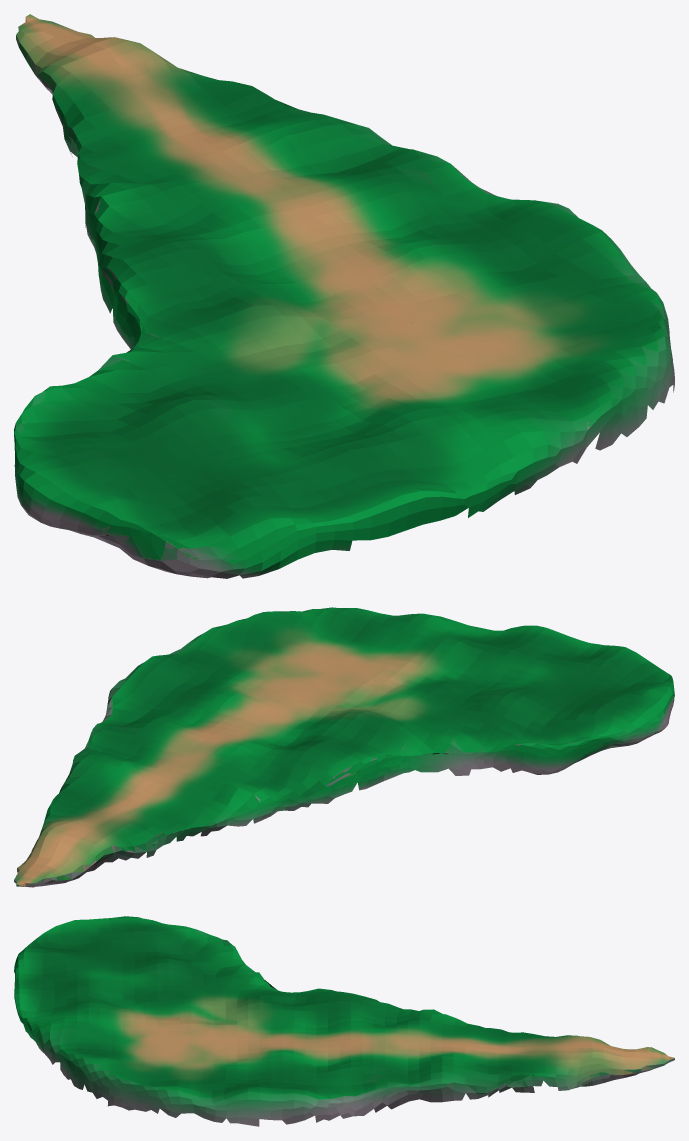
The model's file is Map1_Island1_Collision.fbx.
3 renders of one model, top to bottom at view 1: azimuth 30°, elevation 25°; view 2: azimuth 150°, elevation 25°; view 3: azimuth 270°, elevation 25°, orthographic. The views are drawn at different scales.
Parts seen in each view (by area): view 1: Map1_Island1_Collision; view 2: Map1_Island1_Collision; view 3: Map1_Island1_Collision.
Boxes of the visible parts, x1,y1,x2,y2 form: Map1_Island1_Collision: [14, 14, 674, 578]; Map1_Island1_Collision: [14, 607, 674, 887]; Map1_Island1_Collision: [14, 916, 674, 1126].
Size of the model in its own units: 419 by 33.35 by 622.
